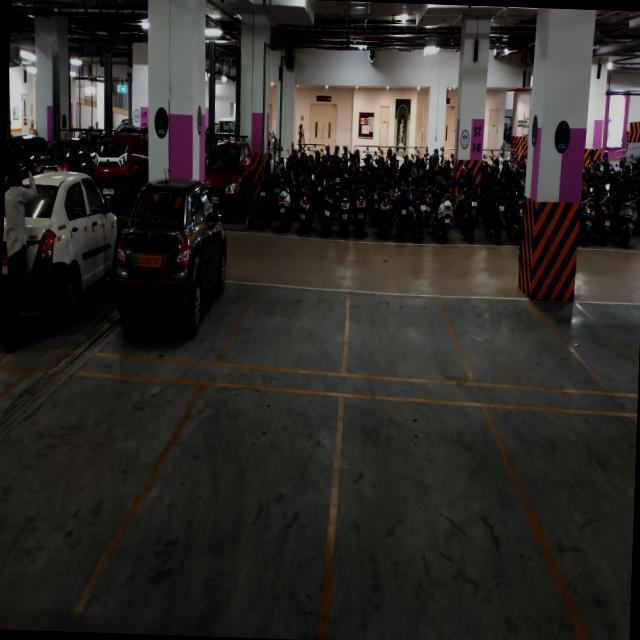space-empty: (329, 393, 530, 630), (140, 397, 349, 621), (0, 381, 146, 609), (544, 395, 638, 625), (218, 278, 356, 382), (341, 285, 454, 392), (460, 297, 550, 401)
space-occupied: (80, 261, 240, 372), (0, 239, 103, 355)
